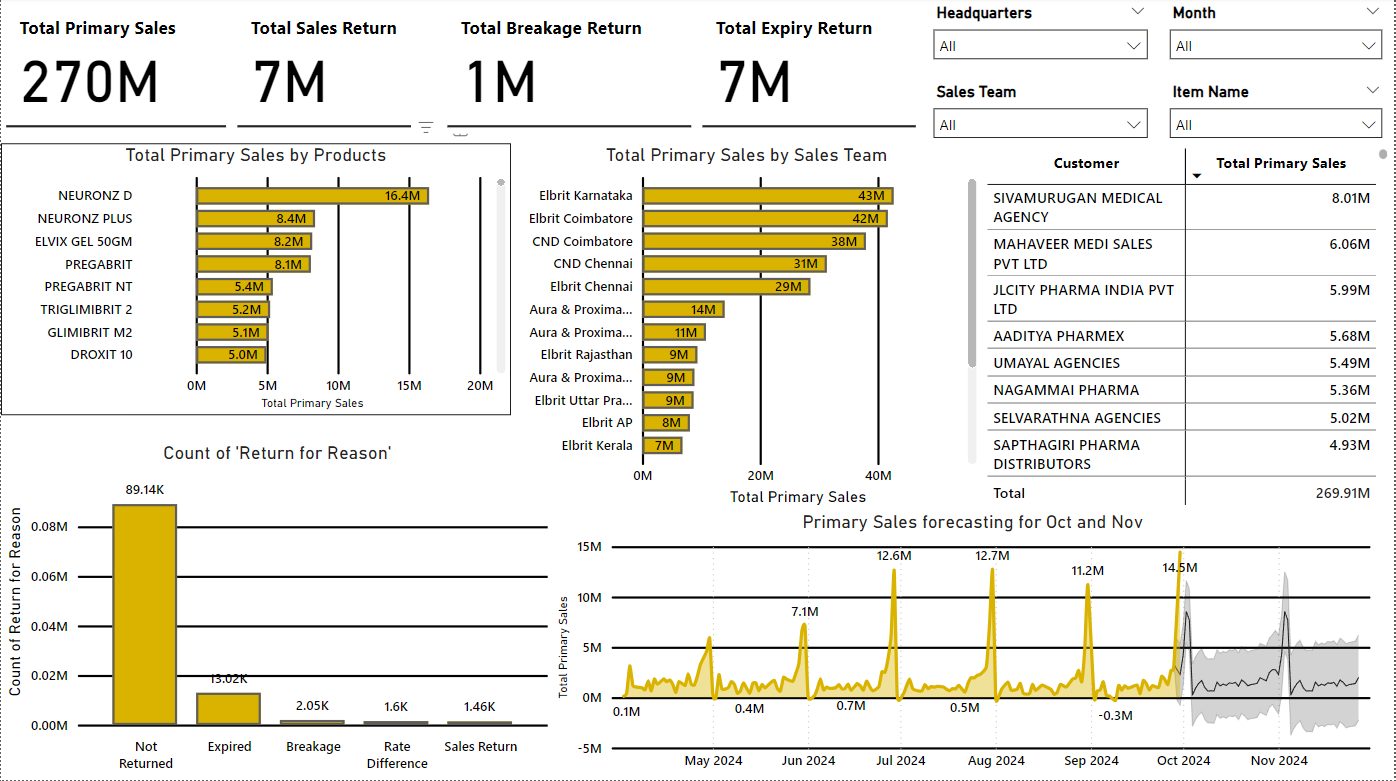

This screenshot's page, from the dashboard's own definition file:
{"tool":"powerbi","page":{"name":"Dash Board","canvas":[1280,720],"ordinal":2},"visuals":[{"type":"cardVisual","fields":{"Data":["sales_summary.Total Primary Sales"]},"box":[0,0,212.5,125.2],"z":0},{"type":"cardVisual","fields":{"Data":["sales_summary.Total Sales Return"]},"box":[212.5,0,193,125.2],"z":1000},{"type":"slicer","fields":{"Values":["sales_summary.Date.Variation.Date Hierarchy.Month"]},"box":[1063.7,1.1,216,72.4],"z":2000},{"type":"slicer","fields":{"Values":["sales_summary.HQ"]},"box":[846.6,1.1,217.1,72.4],"z":3000},{"type":"slicer","fields":{"Values":["sales_summary.Sales Team"]},"box":[846.6,73.5,217.1,60.9],"z":4000},{"type":"slicer","fields":{"Values":["sales_summary.Item Name"]},"box":[1063.7,73.5,216,60.9],"z":5000},{"type":"barChart","title":"Total Primary Sales by Products","fields":{"Y":["sales_summary.Total Primary Sales"],"Category":["sales_summary.Item Name"]},"box":[0,134.4,468.7,250.4],"z":6000},{"type":"barChart","fields":{"Category":["sales_summary.Sales Team"],"Y":["sales_summary.Total Primary Sales"]},"box":[468.7,134.4,433.1,337.7],"z":7000},{"type":"columnChart","title":"Count of ''Return for Reason''","fields":{"Category":["sales_summary.Return for Reason"],"Y":["CountNonNull(sales_summary.Return for Reason)"]},"box":[0,408.9,507.7,311.3],"z":8000},{"type":"pivotTable","fields":{"Rows":["sales_summary.Customer"],"Values":["sales_summary.Total Primary Sales"]},"box":[901.7,134.4,377.9,337.7],"z":9000},{"type":"lineChart","title":"Primary Sales forecasting for Oct and Nov","fields":{"Y":["sales_summary.Total Primary Sales"],"Category":["sales_summary.Date.Variation.Date Hierarchy.Year","sales_summary.Date.Variation.Date Hierarchy.Quarter","sales_summary.Date.Variation.Date Hierarchy.Month","sales_summary.Date.Variation.Date Hierarchy.Day"]},"box":[506.6,472.1,773.1,248.1],"z":10000},{"type":"cardVisual","fields":{"Data":["sales_summary.Expiry Sales"]},"box":[639.8,0,206.8,125.2],"z":11000},{"type":"cardVisual","fields":{"Data":["sales_summary.Breakage Sales"]},"box":[405.5,0,234.3,125.2],"z":12000}]}

Visuals, with their boxes in screenshot pixels (x1, y1, x2, y2), scaled from the page's 1280x720 canvas onto the 1396x781 screenshot:
cardVisual - sales_summary.Total Primary Sales: Rect(0, 0, 232, 136)
cardVisual - sales_summary.Total Sales Return: Rect(232, 0, 442, 136)
slicer - sales_summary.Date.Variation.Date Hierarchy.Month: Rect(1160, 1, 1395, 80)
slicer - sales_summary.HQ: Rect(923, 1, 1160, 80)
slicer - sales_summary.Sales Team: Rect(923, 80, 1160, 146)
slicer - sales_summary.Item Name: Rect(1160, 80, 1395, 146)
"Total Primary Sales by Products" barChart: Rect(0, 146, 511, 417)
barChart - sales_summary.Sales Team x sales_summary.Total Primary Sales: Rect(511, 146, 984, 512)
"Count of ''Return for Reason''" columnChart: Rect(0, 444, 554, 780)
pivotTable - sales_summary.Customer x sales_summary.Total Primary Sales: Rect(983, 146, 1395, 512)
"Primary Sales forecasting for Oct and Nov" lineChart: Rect(553, 512, 1395, 780)
cardVisual - sales_summary.Expiry Sales: Rect(698, 0, 923, 136)
cardVisual - sales_summary.Breakage Sales: Rect(442, 0, 698, 136)
